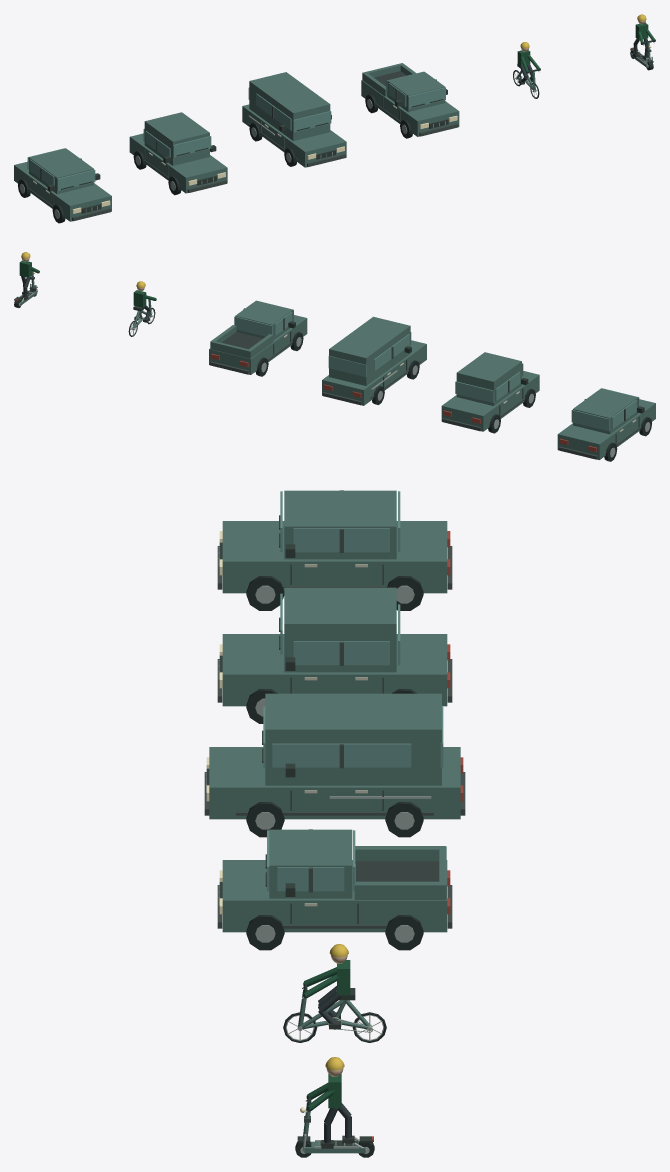
Rendered from campus-props-before-profile-2026-11-04.glb.
3 renders of one model, top to bottom at view 1: azimuth 30°, elevation 25°; view 2: azimuth 150°, elevation 25°; view 3: azimuth 270°, elevation 25°, orthographic. The views are drawn at different scales.
Parts seen in each view (by area): view 1: Original campus van, Original campus suv, Original campus pickup, Original campus car, Original campus bicycle, Original campus scooter; view 2: Original campus van, Original campus suv, Original campus pickup, Original campus car, Original campus bicycle, Original campus scooter; view 3: Original campus van, Original campus pickup, Original campus car, Original campus suv, Original campus bicycle, Original campus scooter.
Boxes of the visible parts, x1,y1,x2,y2 form: Original campus van: [242, 72, 346, 167]; Original campus suv: [129, 112, 227, 195]; Original campus pickup: [361, 63, 459, 138]; Original campus car: [14, 148, 111, 223]; Original campus bicycle: [513, 42, 540, 98]; Original campus scooter: [630, 14, 655, 70]; Original campus van: [322, 316, 426, 405]; Original campus suv: [441, 352, 539, 433]; Original campus pickup: [209, 300, 307, 376]; Original campus car: [557, 388, 655, 461]; Original campus bicycle: [128, 281, 156, 336]; Original campus scooter: [14, 252, 39, 307]; Original campus van: [204, 693, 465, 837]; Original campus pickup: [217, 829, 452, 950]; Original campus car: [217, 490, 452, 610]; Original campus suv: [217, 587, 452, 723]; Original campus bicycle: [283, 944, 386, 1042]; Original campus scooter: [295, 1057, 374, 1157].
Bounding box in the file's own units: 26.4 × 2.17 × 4.87.
